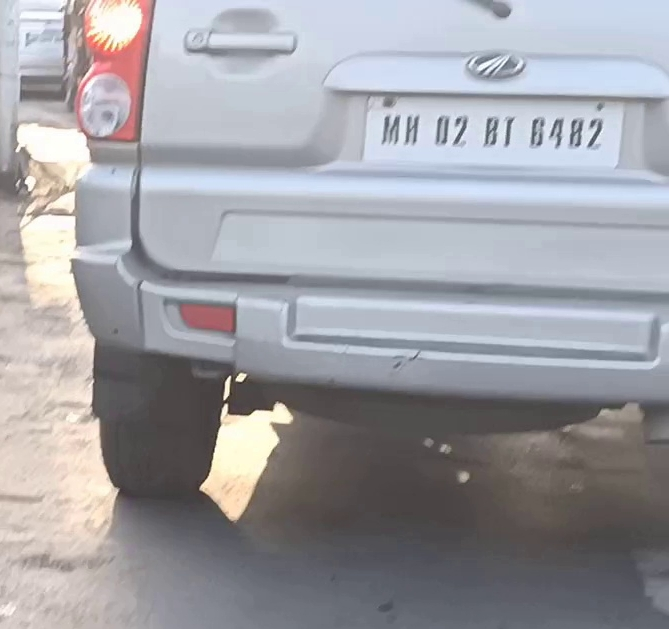MH02BT6482: (363, 91, 625, 169)
